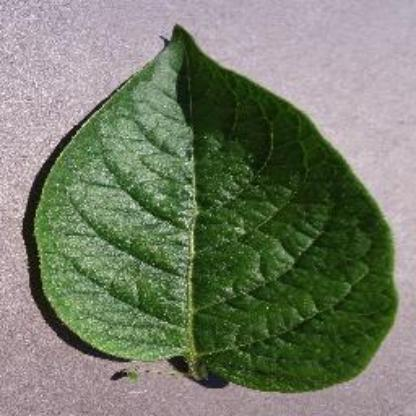Healthy-plant: (23, 14, 404, 400)
